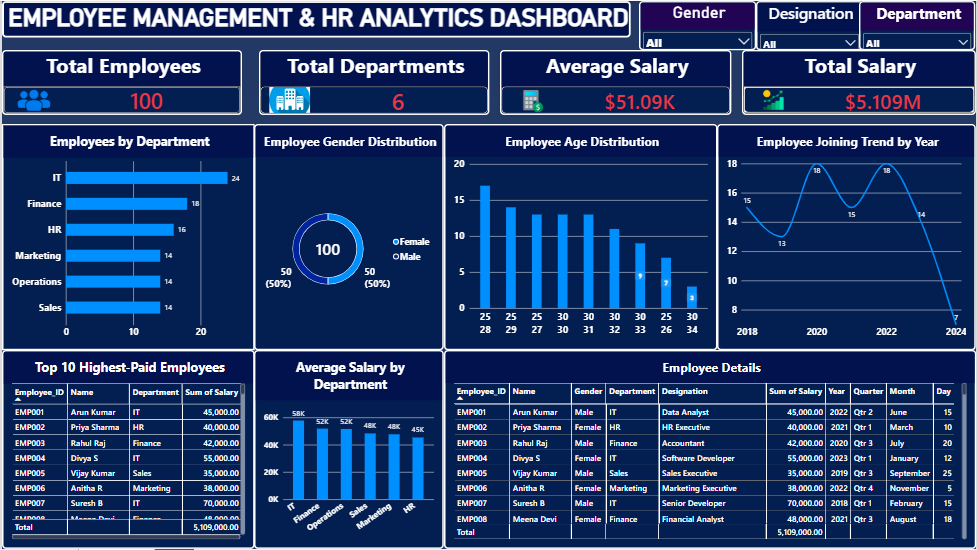

The page's visual inventory and layout, read from the dashboard file:
{"tool":"powerbi","page":{"name":"HR Analytics Dashboard","canvas":[1920,1080],"ordinal":0},"visuals":[{"type":"cardVisual","title":"Total Employees","fields":{"Data":["employees.Total Employees"]},"box":[0,97,472.8,128],"z":0},{"type":"clusteredBarChart","title":"Employees by Department","fields":{"Category":["employees.Department"],"Y":["CountNonNull(employees.Employee_ID)"]},"box":[0,241.5,497.5,445.9],"z":1000},{"type":"donutChart","title":"Employee Gender Distribution","fields":{"Category":["employees.Gender"],"Y":["CountNonNull(employees.Employee_ID)"]},"box":[497.5,241.5,373.7,445.9],"z":2000},{"type":"clusteredColumnChart","title":"Average Salary by Department","fields":{"Category":["employees.Department"],"Y":["Avg(employees.Salary)"]},"box":[497.5,687.5,373.7,392.3],"z":3000},{"type":"lineChart","title":"Employee Joining Trend by Year","fields":{"Category":["employees.DOJ.Variation.Date Hierarchy.Year"],"Y":["CountNonNull(employees.Employee_ID)"]},"box":[1410.1,241.5,509.9,445.9],"z":4000},{"type":"ribbonChart","title":"Employee Age Distribution","fields":{"Category":["employees.Age","employees.Age (bins)"],"Y":["CountNonNull(employees.Employee_ID)"]},"box":[871.2,241.5,538.8,445.9],"z":5000},{"type":"slicer","title":"Designation","fields":{"Values":["employees.Designation"]},"box":[1474,0,241.9,98.3],"z":6000},{"type":"cardVisual","title":"Average Salary","fields":{"Data":["employees.Average Salary"]},"box":[980.6,97,456.3,128],"z":8000},{"type":"cardVisual","title":"Total Departments","fields":{"Data":["Count(employees.Department)"]},"box":[505.8,97,454.2,128],"z":9000},{"type":"tableEx","title":"Top 10 Highest-Paid Employees","fields":{"Values":["employees.Employee_ID","employees.Name","employees.Department","Sum(employees.Salary)"]},"box":[0,687.5,497.5,392.3],"z":10000},{"type":"cardVisual","title":"Total Salary","fields":{"Data":["employees.Total Salary"]},"box":[1457.5,97,461.3,127.6],"z":11000},{"type":"tableEx","title":"Employee Details","fields":{"Values":["employees.Employee_ID","employees.Name","employees.Gender","employees.Department","employees.Designation","Sum(employees.Salary)","employees.DOJ.Variation.Date Hierarchy.Year","employees.DOJ.Variation.Date Hierarchy.Quarter","employees.DOJ.Variation.Date Hierarchy.Month","employees.DOJ.Variation.Date Hierarchy.Day"]},"box":[871.2,687.5,1048.8,392.3],"z":12000},{"type":"slicer","title":"Gender","fields":{"Values":["employees.Gender"]},"box":[1227.1,0,246.9,98.3],"z":13000},{"type":"slicer","title":"Department","fields":{"Values":["employees.Department"]},"box":[1688.8,0,229.2,97],"z":14000},{"type":"textbox","title":"EMPLOYEE MANAGEMENT & HR ANALYTICS DASHBOARD","box":[0,0,1209.4,80.6],"z":14001}]}

Visuals, with their boxes in screenshot pixels (x1, y1, x2, y2), scaled from the page's 1920x1080 canvas onto the 977x550 screenshot:
"Total Employees" cardVisual: (left=0, top=49, right=241, bottom=115)
"Employees by Department" clusteredBarChart: (left=0, top=123, right=253, bottom=350)
"Employee Gender Distribution" donutChart: (left=253, top=123, right=443, bottom=350)
"Average Salary by Department" clusteredColumnChart: (left=253, top=350, right=443, bottom=549)
"Employee Joining Trend by Year" lineChart: (left=718, top=123, right=976, bottom=350)
"Employee Age Distribution" ribbonChart: (left=443, top=123, right=717, bottom=350)
"Designation" slicer: (left=750, top=0, right=873, bottom=50)
"Average Salary" cardVisual: (left=499, top=49, right=731, bottom=115)
"Total Departments" cardVisual: (left=257, top=49, right=489, bottom=115)
"Top 10 Highest-Paid Employees" tableEx: (left=0, top=350, right=253, bottom=549)
"Total Salary" cardVisual: (left=742, top=49, right=976, bottom=114)
"Employee Details" tableEx: (left=443, top=350, right=976, bottom=549)
"Gender" slicer: (left=624, top=0, right=750, bottom=50)
"Department" slicer: (left=859, top=0, right=976, bottom=49)
"EMPLOYEE MANAGEMENT & HR ANALYTICS DASHBOARD" textbox: (left=0, top=0, right=615, bottom=41)
